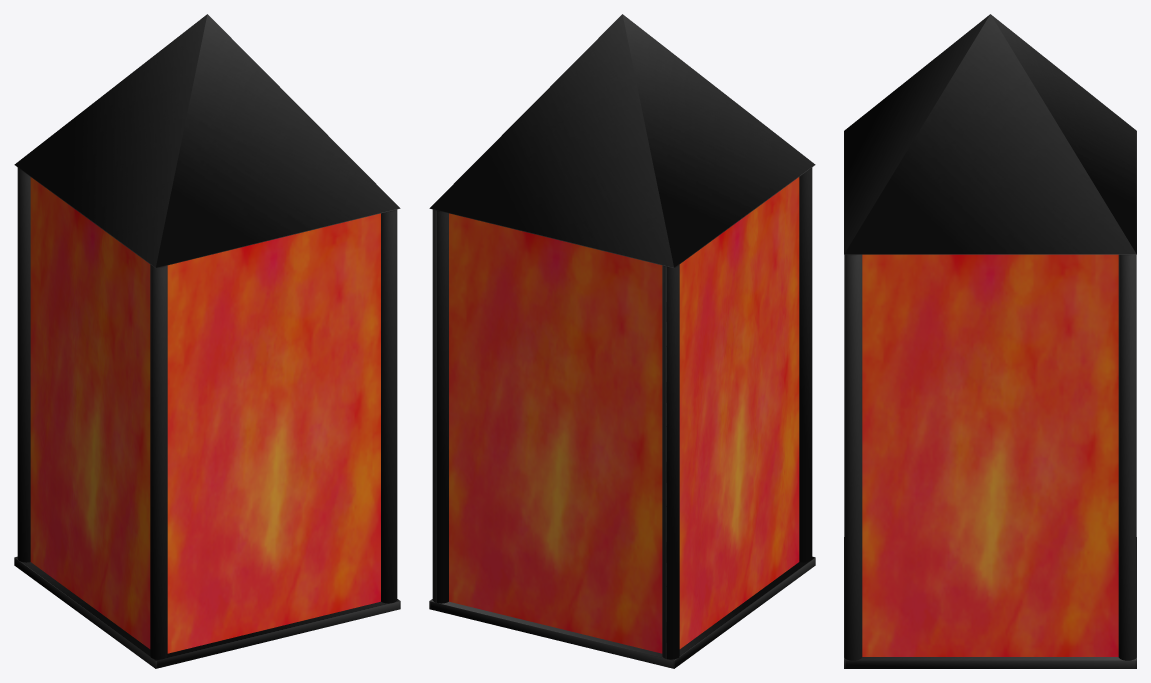
File: Lamp.FBX
The picture shows the model from 3 angles, left to right: view 1: azimuth 30°, elevation 25°; view 2: azimuth 150°, elevation 25°; view 3: azimuth 270°, elevation 25°; orthographic projection. The views are drawn at different scales.
Visible parts, largest first — view 1: Box001, Pyramid001, Cylinder004, Cylinder003, Cylinder002, Box002; view 2: Box001, Pyramid001, Cylinder002, Cylinder001, Cylinder004, Box002; view 3: Box001, Pyramid001, Cylinder001, Cylinder003, Box002.
Boxes of the visible parts, box(x1,y1,x2,y2) form: Box001: box(30, 177, 380, 653); Pyramid001: box(14, 14, 400, 268); Cylinder004: box(150, 264, 167, 659); Cylinder003: box(381, 209, 397, 603); Cylinder002: box(17, 167, 30, 562); Box002: box(14, 556, 400, 668); Box001: box(449, 177, 799, 653); Pyramid001: box(429, 14, 815, 268); Cylinder002: box(662, 264, 679, 659); Cylinder001: box(432, 209, 448, 603); Cylinder004: box(799, 167, 812, 562); Box002: box(429, 556, 815, 668); Box001: box(862, 254, 1118, 656); Pyramid001: box(844, 14, 1136, 254); Cylinder001: box(1118, 254, 1136, 660); Cylinder003: box(844, 254, 862, 660); Box002: box(844, 537, 1136, 668).
Bounding box in the file's own units: 8.56 × 19.13 × 8.56.
Materials: 2 (2 with a texture image).
